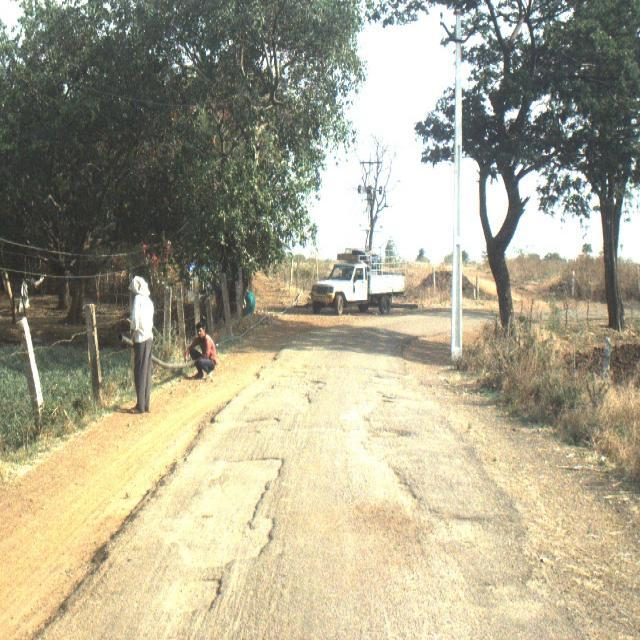pothole: (362, 389, 504, 540), (167, 525, 236, 630), (203, 445, 291, 521), (300, 362, 334, 426), (243, 528, 281, 580), (236, 402, 286, 434)
